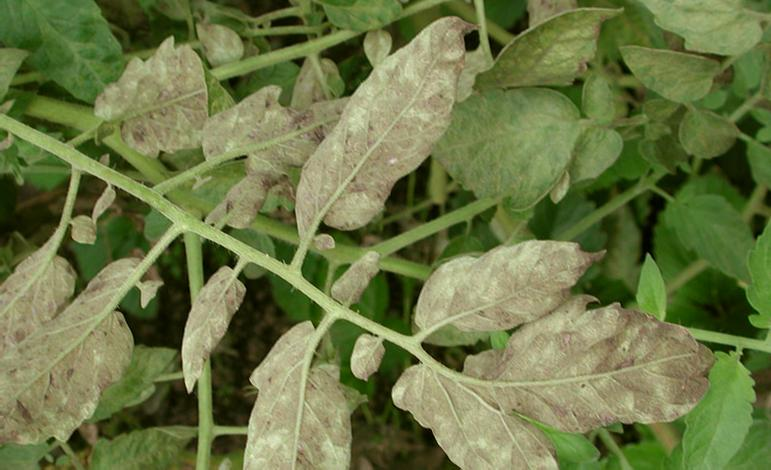Tomato mold leaf: (434, 95, 608, 214), (0, 0, 121, 94), (617, 41, 744, 129), (613, 0, 757, 57)
